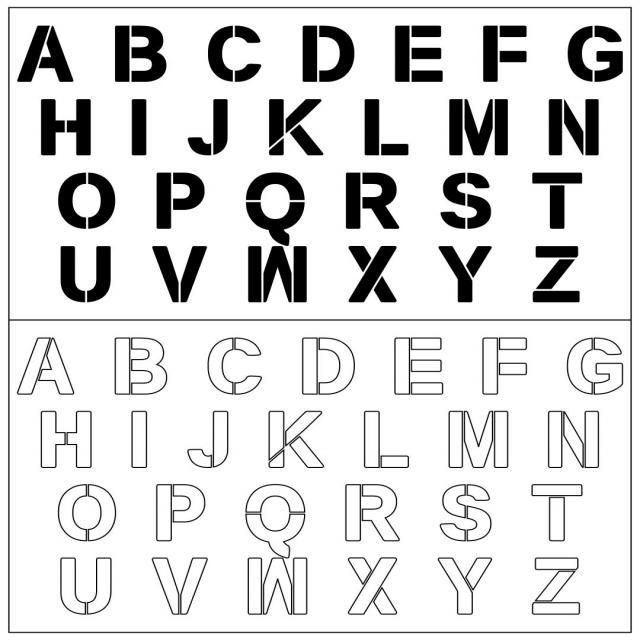S: (434, 165, 506, 240)
